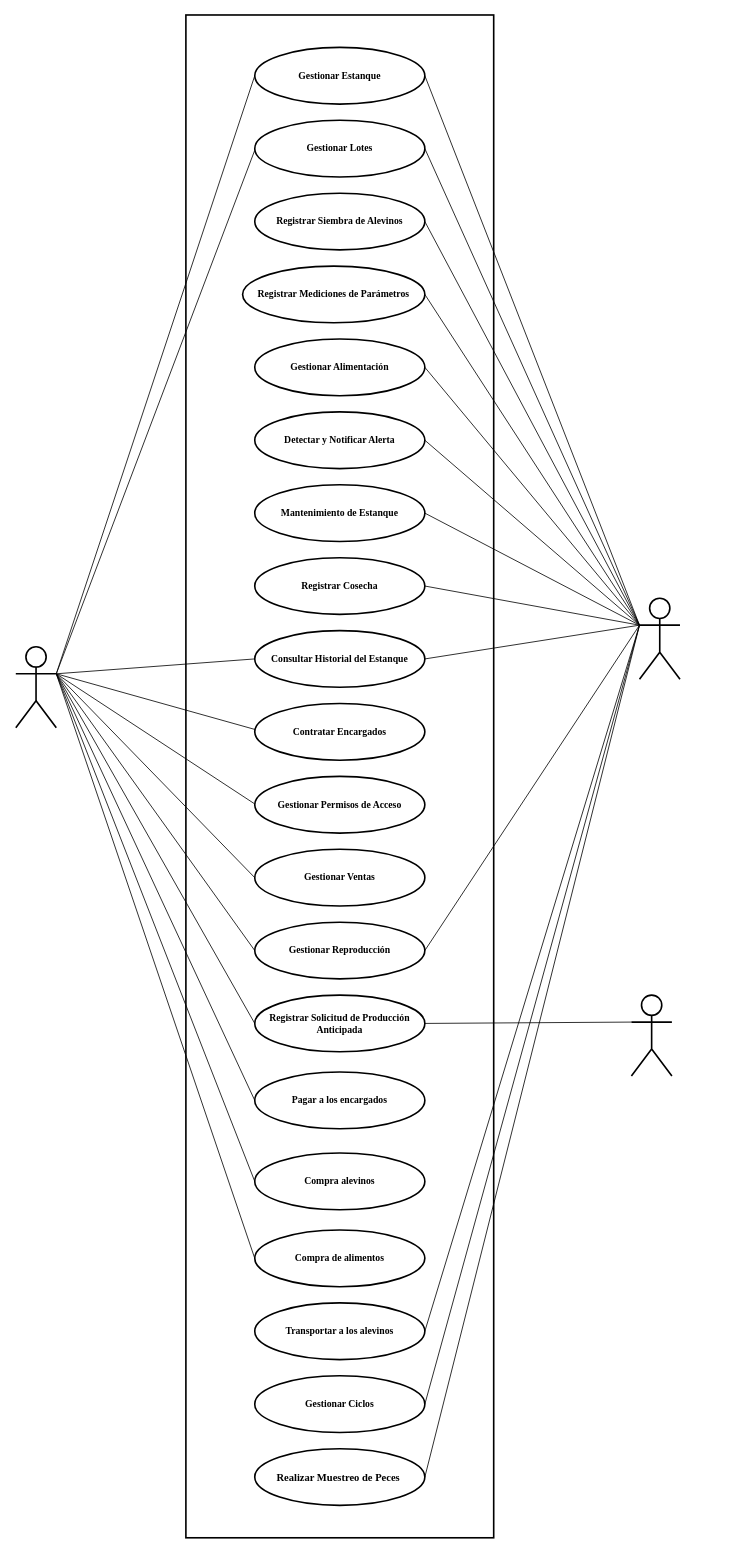
Some shapes in this 734 by 1552 pixel diagram are drawn without their labels. The shapes that lost their labels are listed below. From the top down, each one's box as (x1, y1, x2, y2) in pixels, then its label:
(638, 597, 680, 680): Encargado de la Estación
(15, 646, 57, 728): Piscicultor
(185, 14, 494, 1538): Sistema de Gestión de una Piscícola
(630, 994, 672, 1076): Comprador
